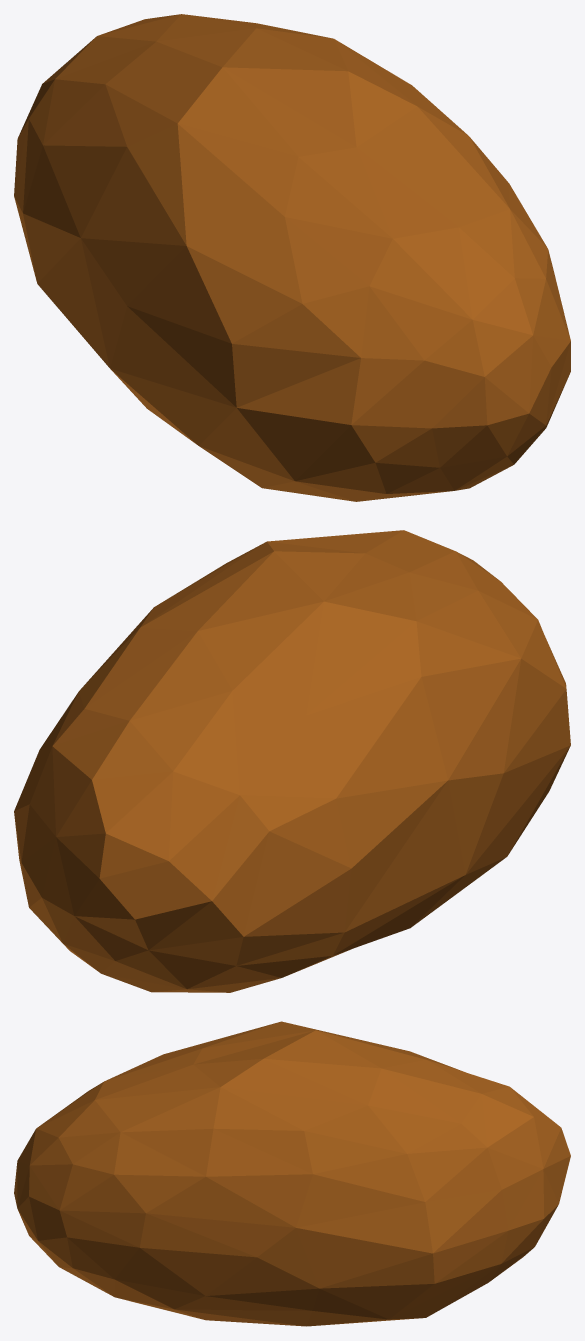
The model's file is potato.fbx.
3 renders of one model, top to bottom at view 1: azimuth 30°, elevation 25°; view 2: azimuth 150°, elevation 25°; view 3: azimuth 270°, elevation 25°, orthographic. The views are drawn at different scales.
Visible parts, largest first — view 1: Cube; view 2: Cube; view 3: Cube.
Part boxes in pixels (x1,y1,x2,y2): Cube: (14, 14, 570, 501); Cube: (14, 530, 570, 992); Cube: (14, 1021, 570, 1326).
Bounding box in the file's own units: 5.87 × 5.62 × 10.93.
